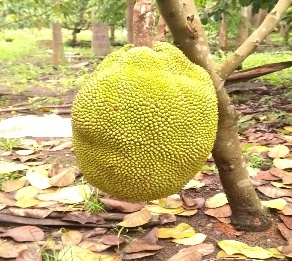Mit: (71, 40, 218, 203)
